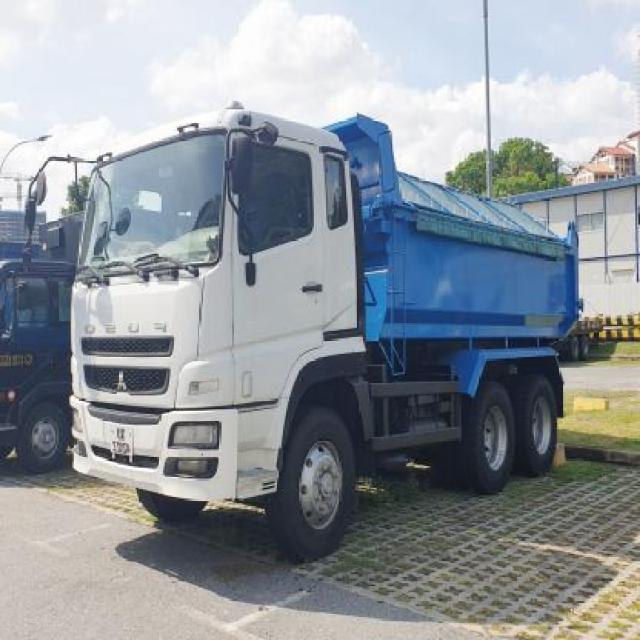truck: (24, 107, 584, 558)
